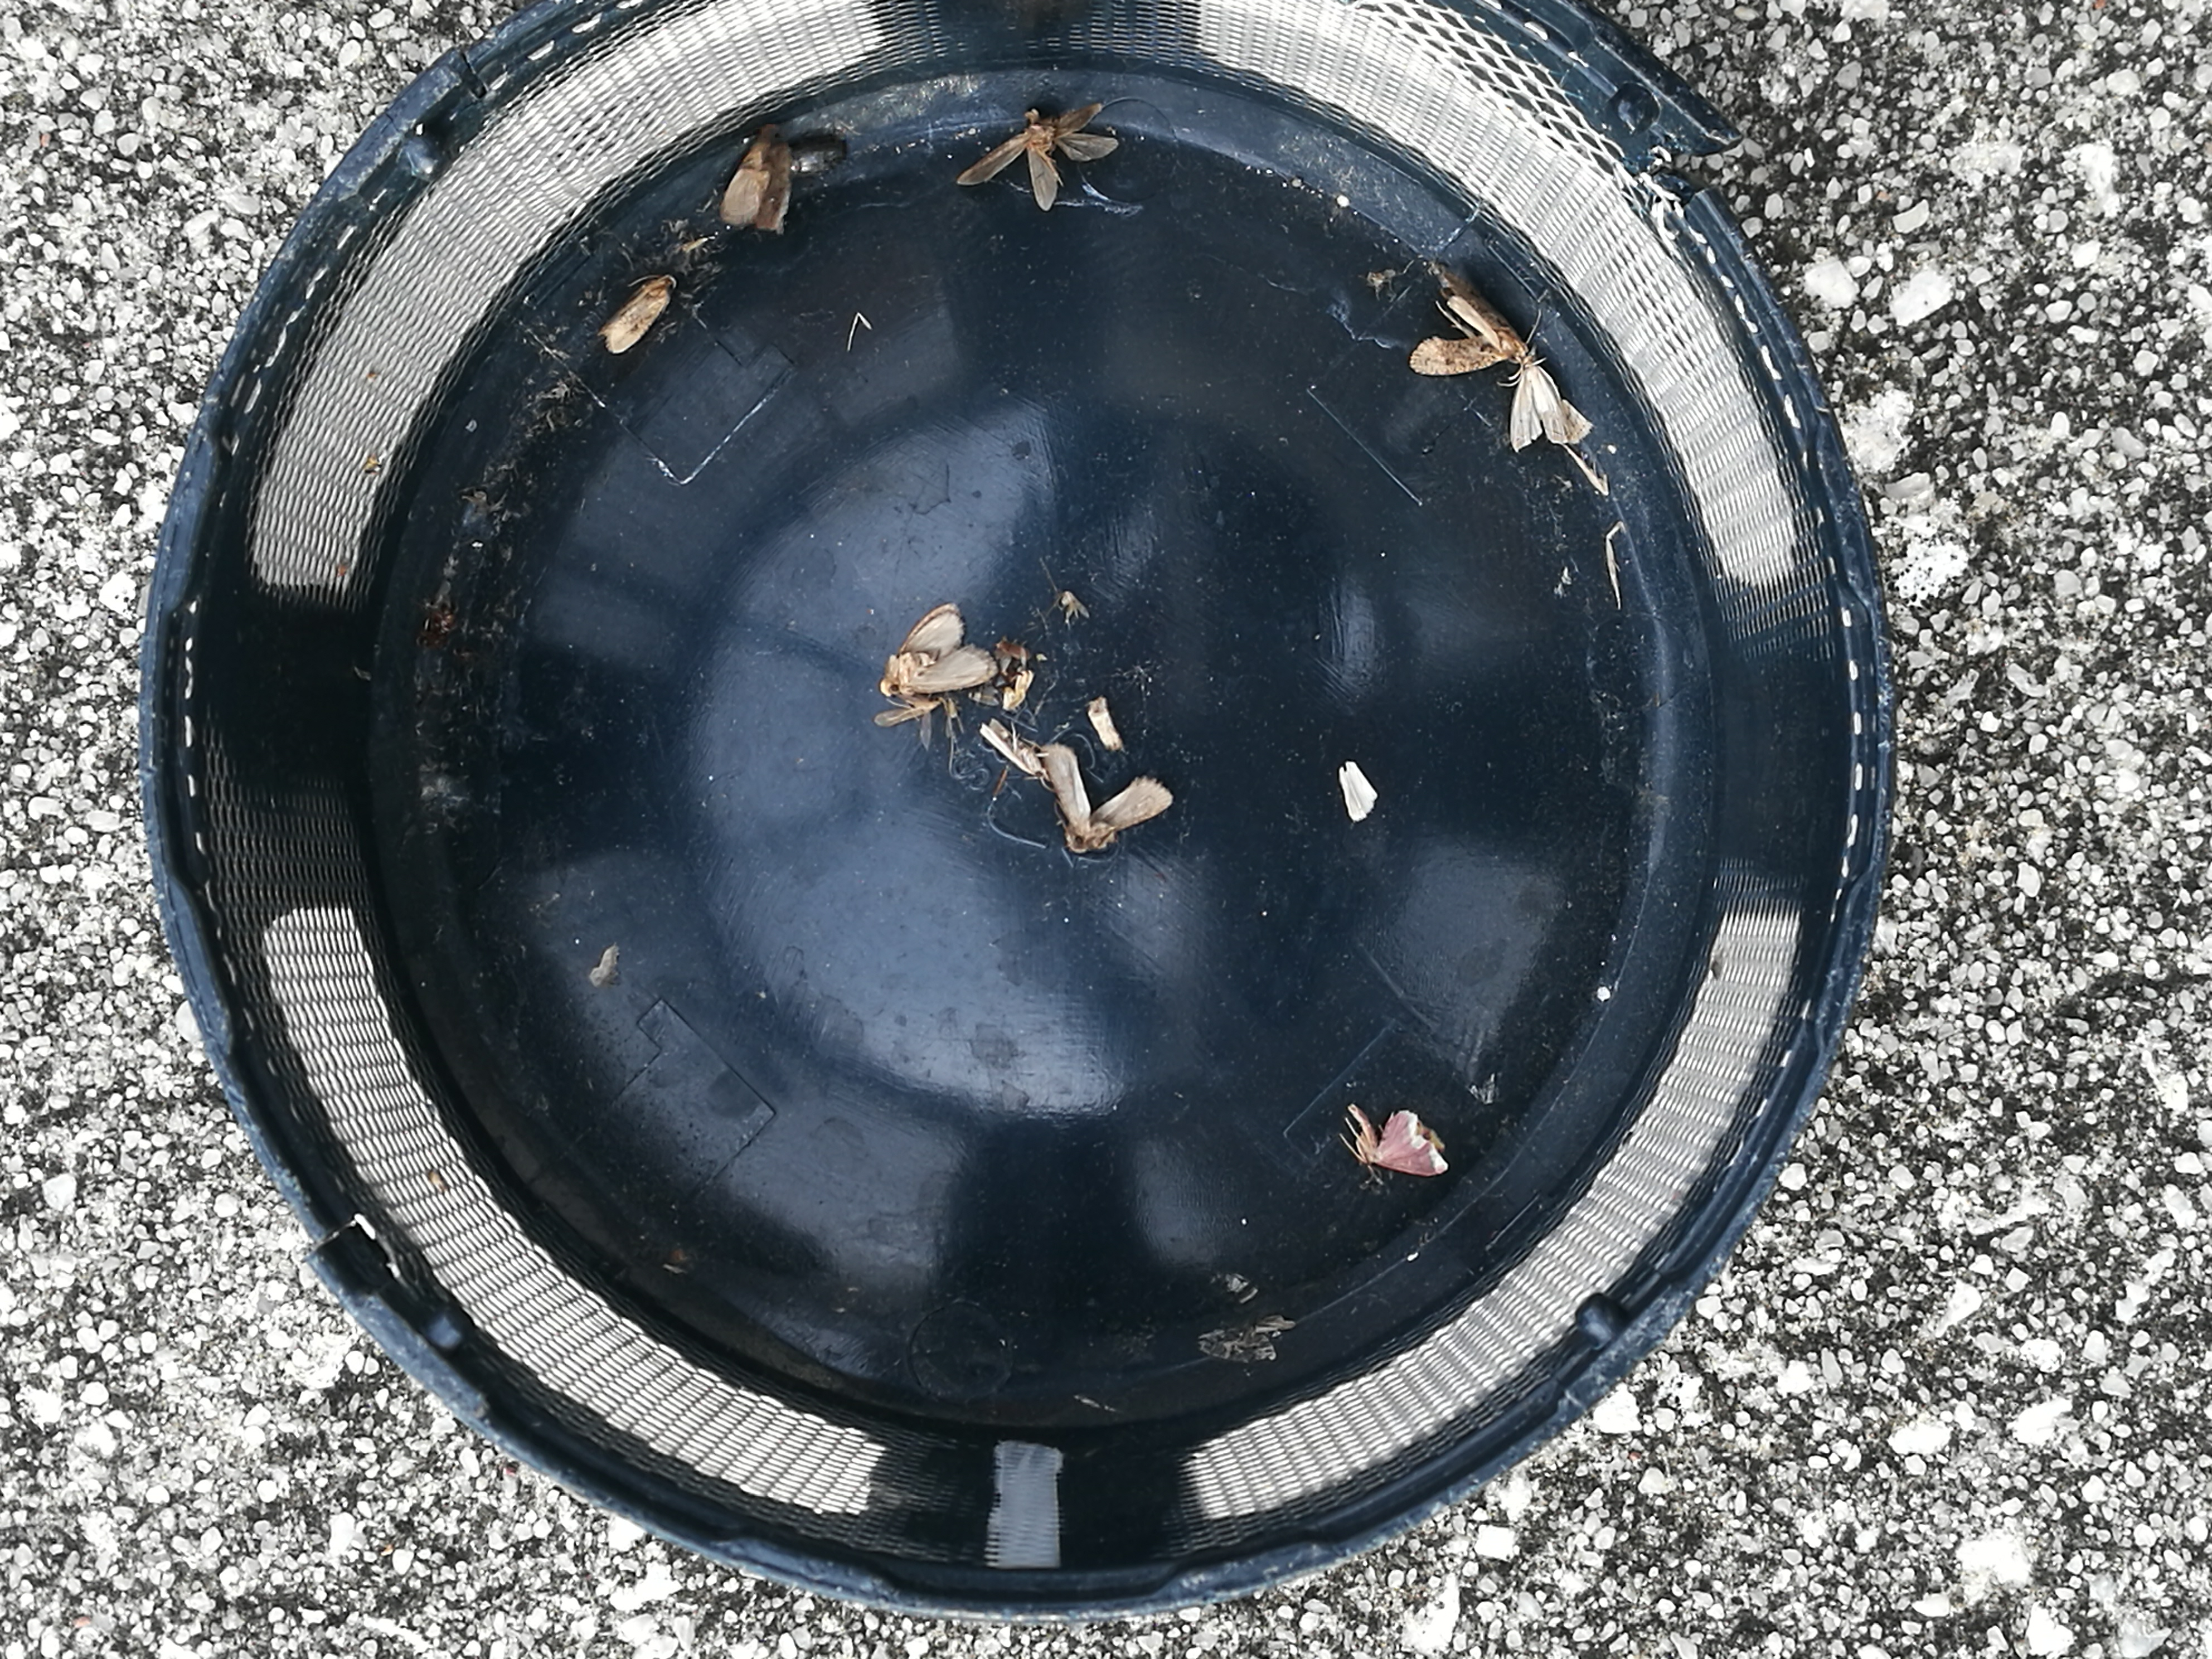mosquito: (603, 275, 676, 352), (986, 721, 1045, 775)
moth: (960, 106, 1116, 209), (1043, 741, 1169, 850), (881, 606, 995, 697), (1407, 300, 1521, 376), (719, 122, 791, 235), (1348, 1101, 1446, 1175), (1508, 359, 1568, 453)
